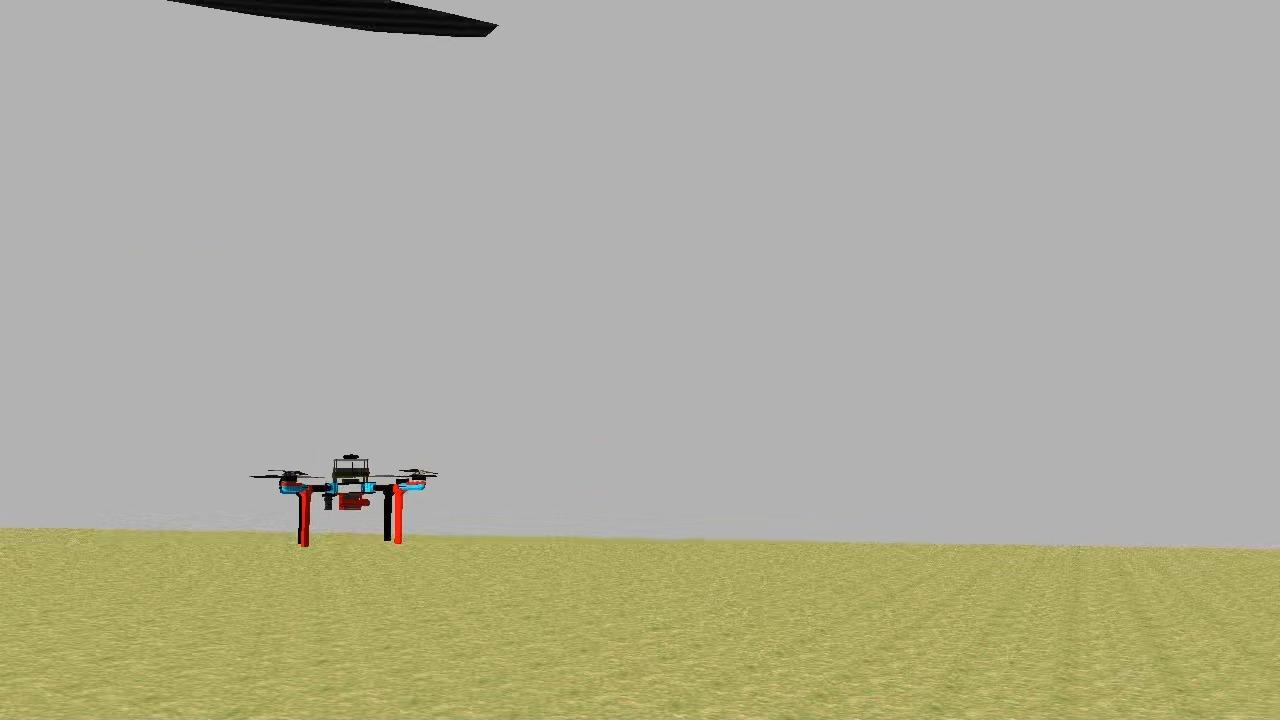UAV: (273, 444, 437, 552)
